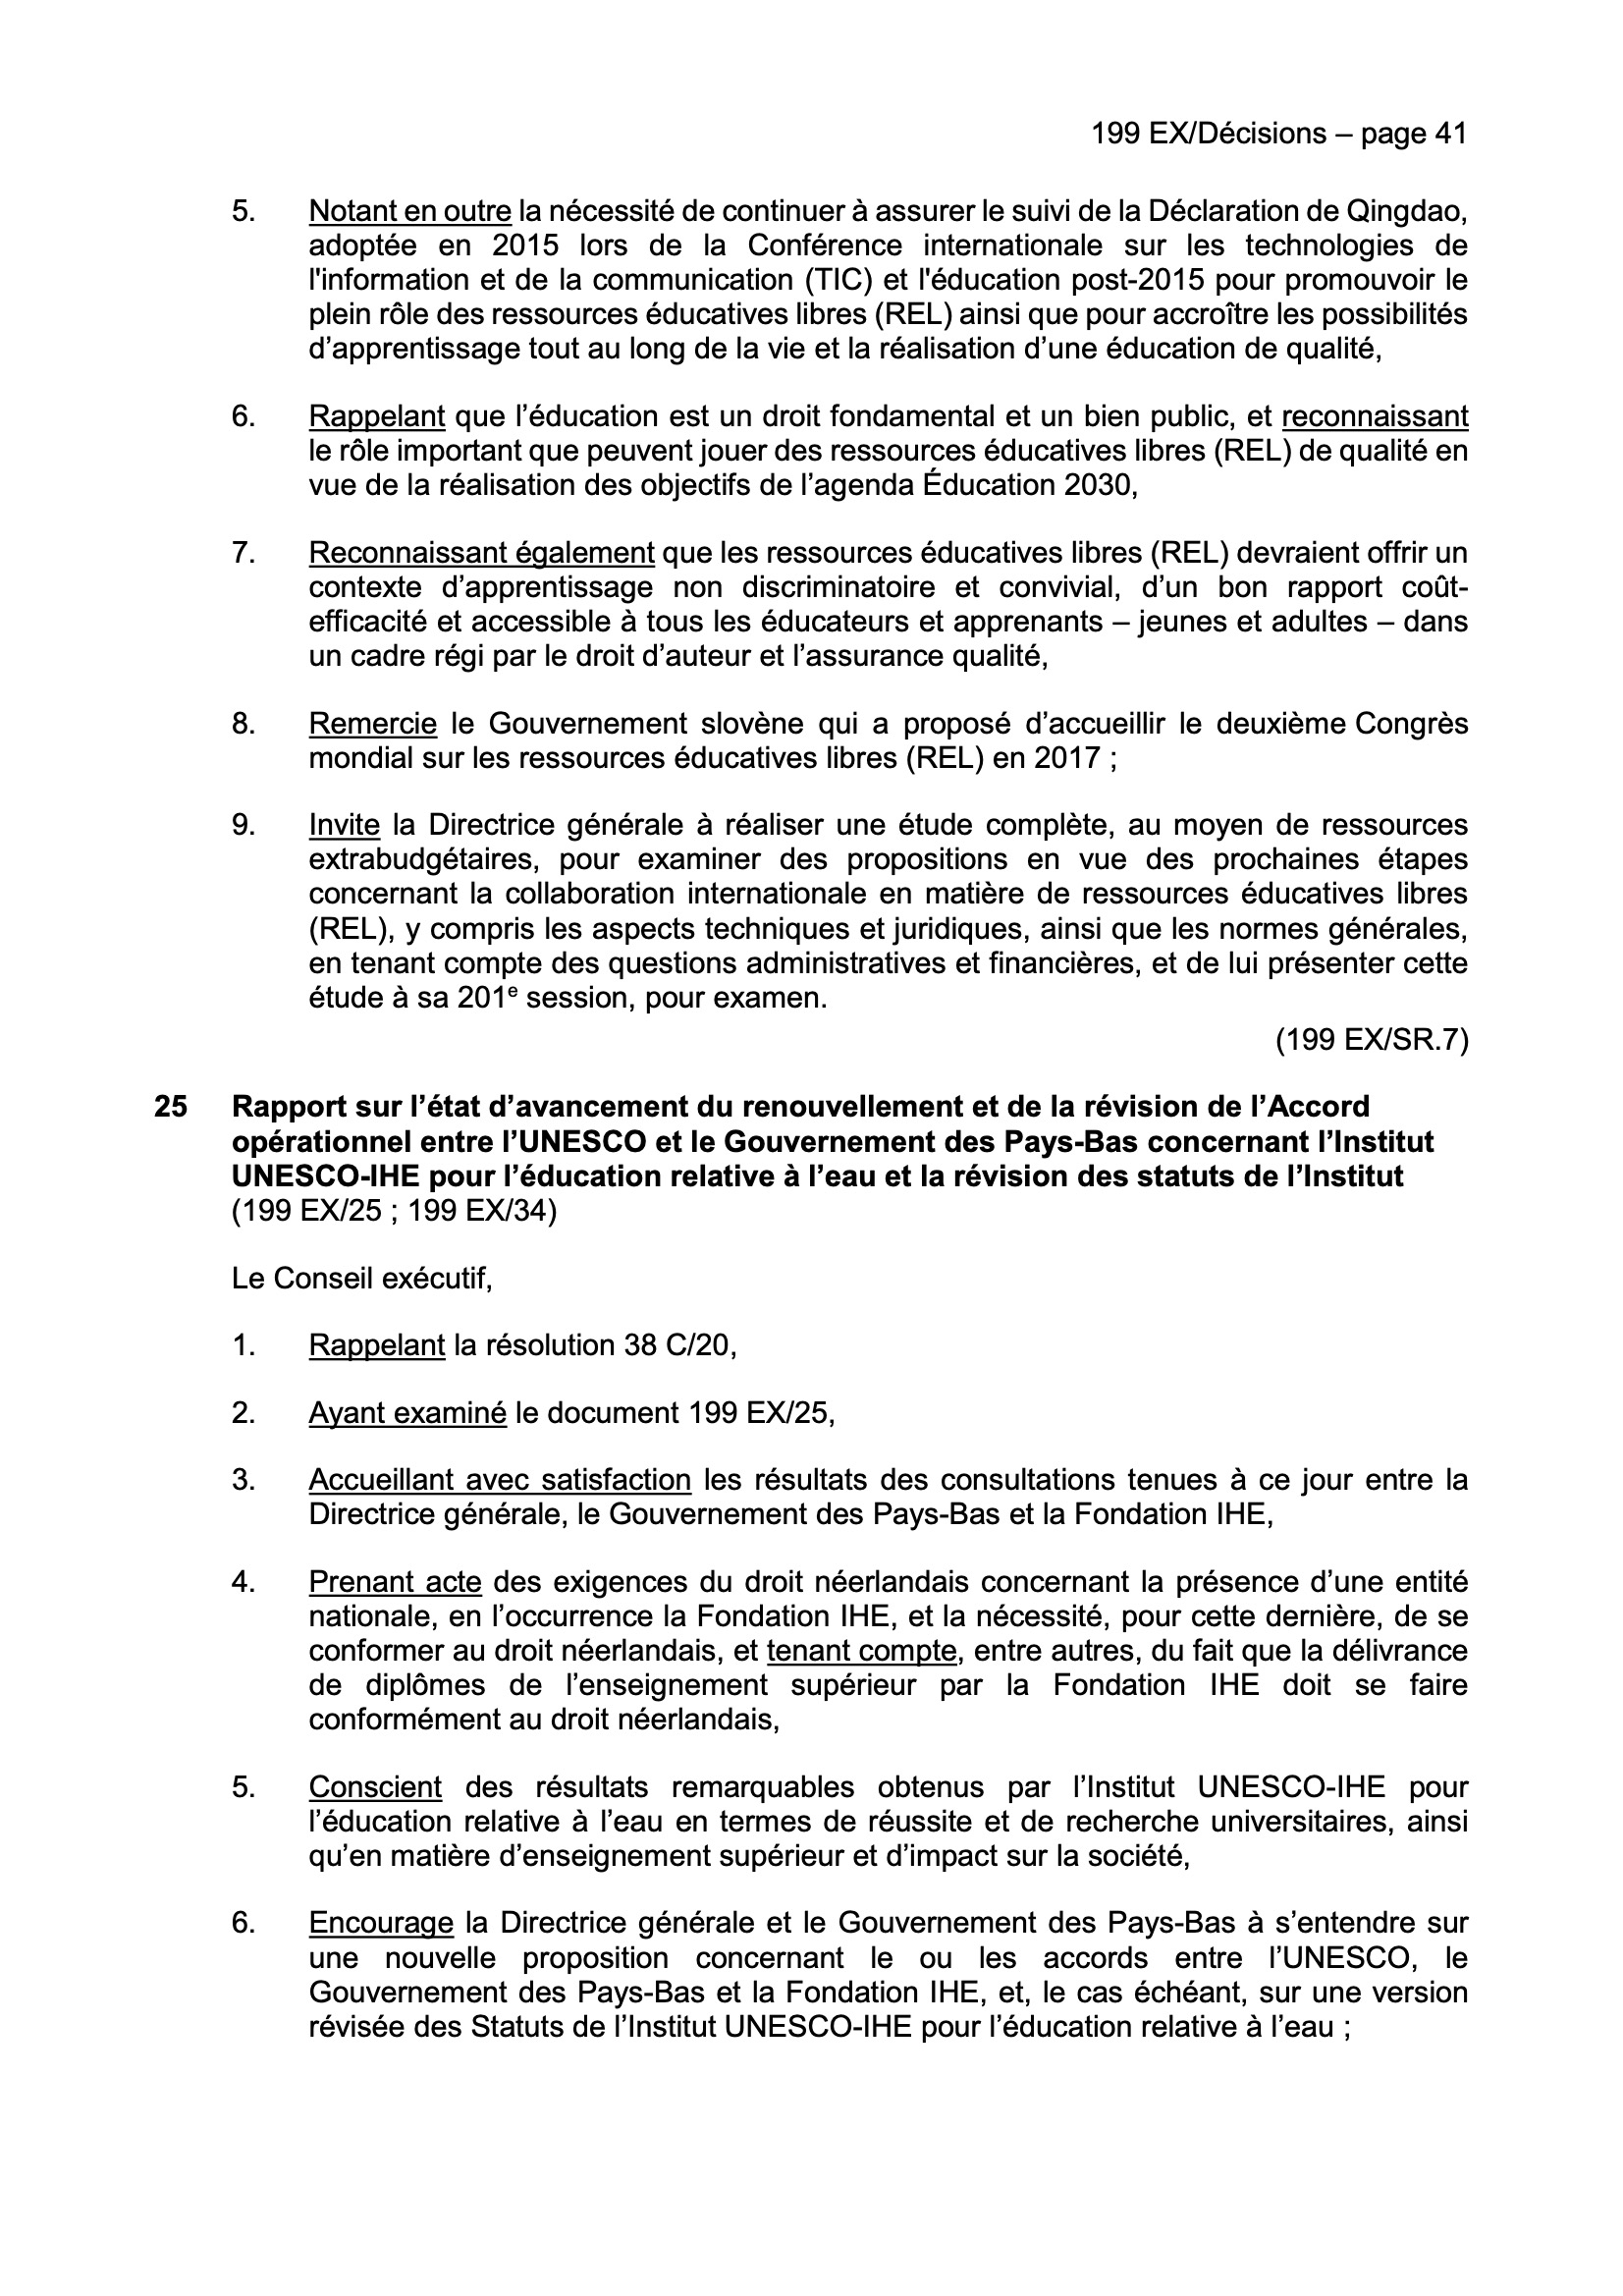MainZone-Head: (141, 1084, 1445, 1230)
MainZone-ListItem: (207, 797, 1484, 1018), (206, 1555, 1481, 1745), (205, 183, 1481, 371), (210, 1892, 1484, 2060), (206, 524, 1483, 681), (204, 1759, 1484, 1882), (209, 390, 1481, 512), (204, 695, 1482, 784), (203, 1453, 1485, 1539), (226, 1395, 849, 1435), (225, 1328, 744, 1365)
MainZone-Other: (1260, 1021, 1474, 1063)
MainZone-P: (215, 1259, 511, 1294)
RunningTitleZone: (1080, 108, 1474, 156)
